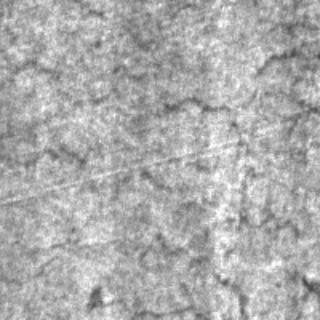crazing: (88, 34, 316, 162), (27, 197, 297, 305), (4, 94, 256, 190)
